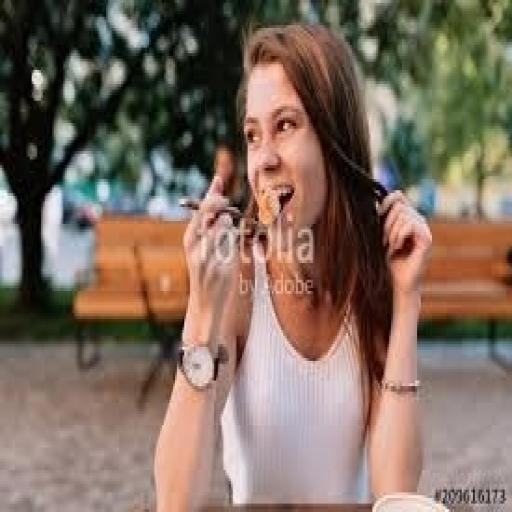eating: (151, 20, 434, 509)
